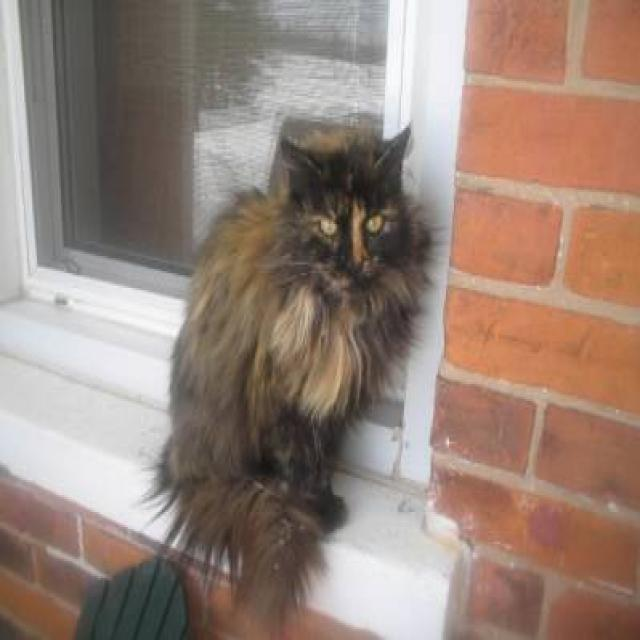cat: (136, 117, 443, 634)
